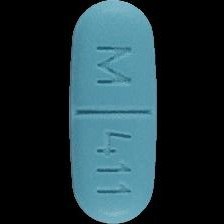0378-1411: (0, 0, 224, 224)
